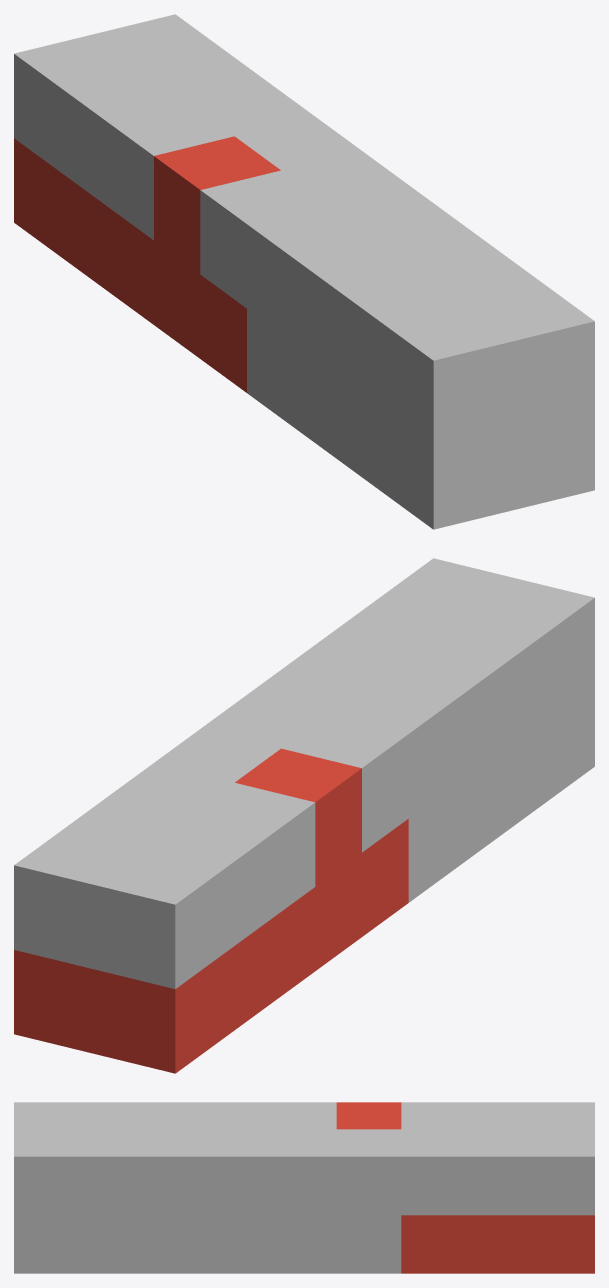
Rendered from tiling.obj.
The picture shows the model from 3 angles, top to bottom: view 1: azimuth 30°, elevation 25°; view 2: azimuth 150°, elevation 25°; view 3: azimuth 270°, elevation 25°; orthographic projection. The views are drawn at different scales.
Parts seen in each view (by area): view 1: copy_2, copy_4, copy_3, copy_1; view 2: copy_4, copy_2, copy_1, copy_3; view 3: copy_4, copy_2, copy_3, copy_1.
Boxes of the visible parts, x1,y1,x2,y2 form: copy_2: (200,170,594,445); copy_4: (14,14,407,240); copy_3: (293,185,594,529); copy_1: (14,136,280,392); copy_4: (14,695,327,989); copy_2: (281,558,594,902); copy_1: (14,748,408,1073); copy_3: (247,660,594,868); copy_4: (272,1102,594,1273); copy_2: (14,1102,336,1215); copy_3: (14,1129,336,1273); copy_1: (336,1102,594,1273).
Size of the model in its own units: 2 by 2 by 9.
